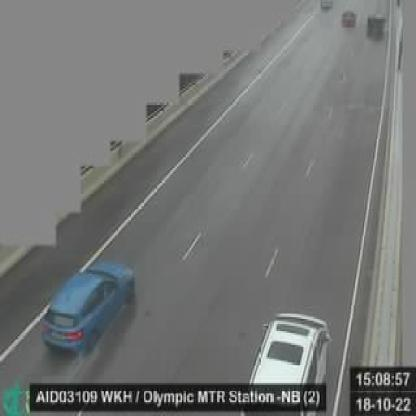Car: (39, 261, 137, 357), (239, 307, 332, 407), (340, 8, 358, 29)
Truck: (367, 12, 386, 41)
